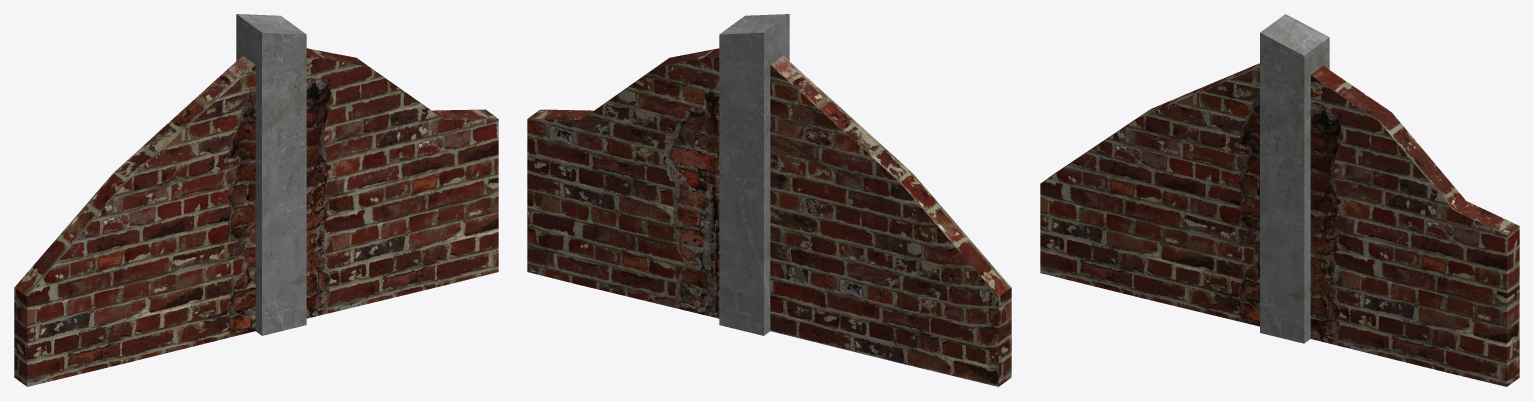
The model's file is wallBroken_Mesh02.fbx.
3 views of the same model, side by side, from view 1: azimuth 30°, elevation 25°; view 2: azimuth 150°, elevation 25°; view 3: azimuth 330°, elevation 25° (orthographic).
Parts seen in each view (by area): view 1: wallbroken2; view 2: wallbroken2; view 3: wallbroken2.
Boxes of the visible parts, x1=… form: wallbroken2: x1=14, y1=14, x2=498, y2=386; wallbroken2: x1=527, y1=14, x2=1011, y2=386; wallbroken2: x1=1040, y1=14, x2=1519, y2=386.
Size of the model in its own units: 127 by 78.08 by 12.
